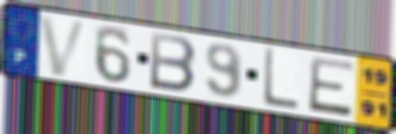6: (92, 25, 133, 86)
9: (203, 41, 244, 100)
B: (148, 30, 199, 95)
E: (306, 54, 357, 119)
L: (261, 46, 301, 112)
V: (36, 13, 92, 79)
